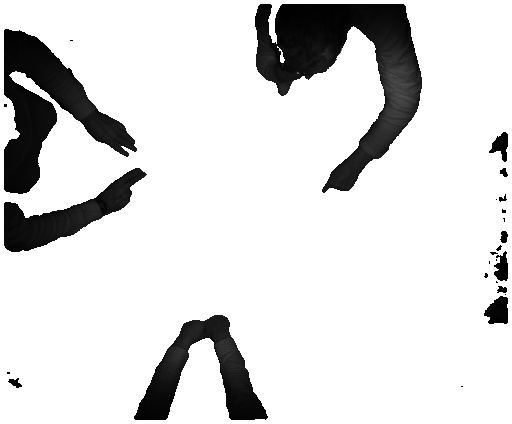fist: (161, 312, 206, 347), (205, 312, 239, 342)
hand: (91, 114, 141, 159), (106, 168, 151, 215), (320, 161, 361, 199)
